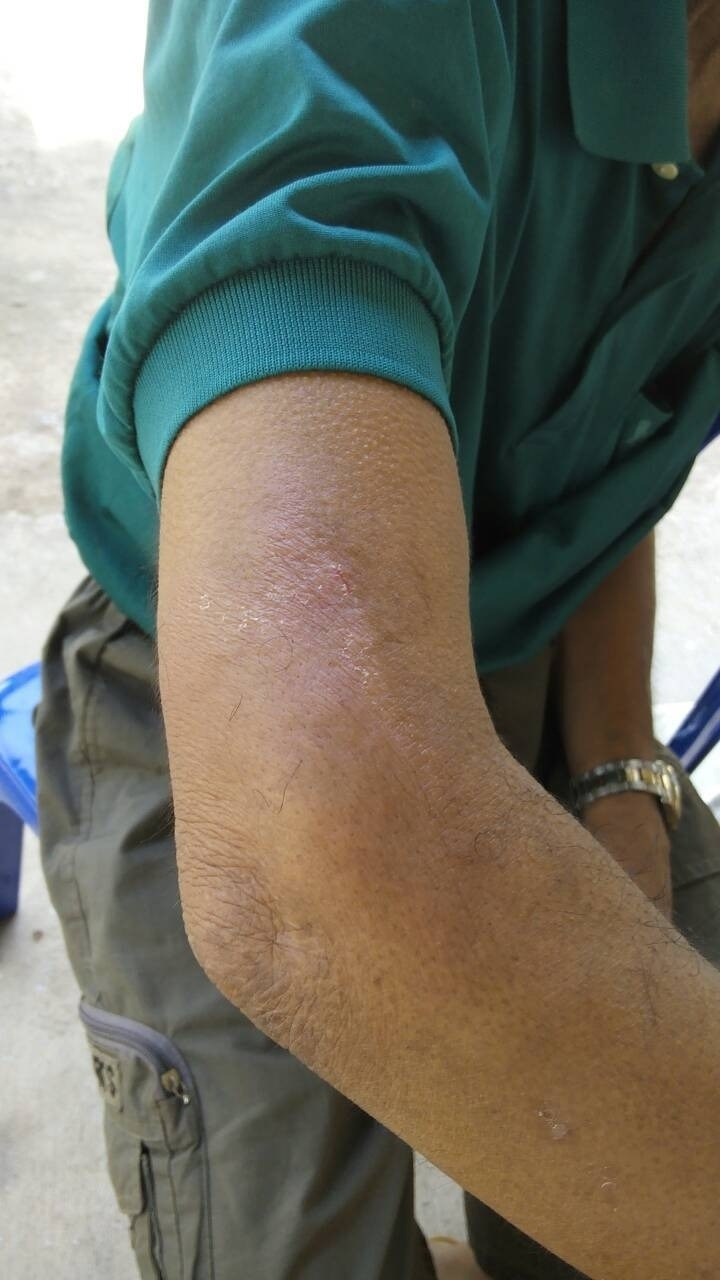Leprosy: (204, 434, 397, 753)
